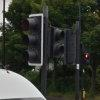traffic lights: (22, 14, 43, 66), (49, 25, 65, 62)
